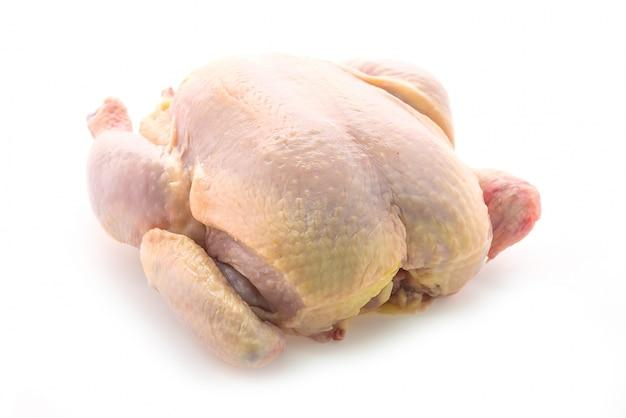chicken: (84, 37, 530, 239)
